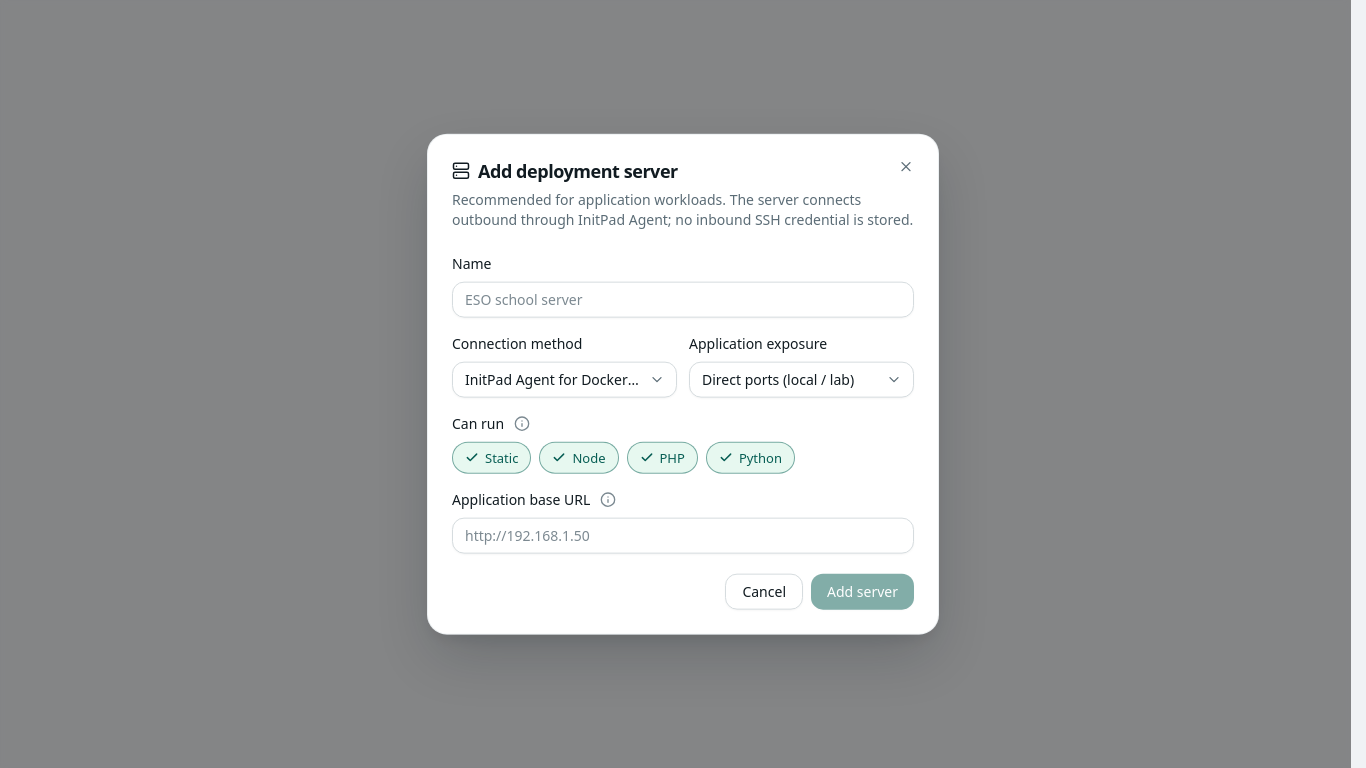
Test: TargetFormDialog SSH host trust › retrieves the public key before credentials and saves it only after confirmation
Select "SFTP shared web hosting" in the dropdown labelled "Connection method" at (564, 379), box x1=452 y1=361 x2=677 y2=397
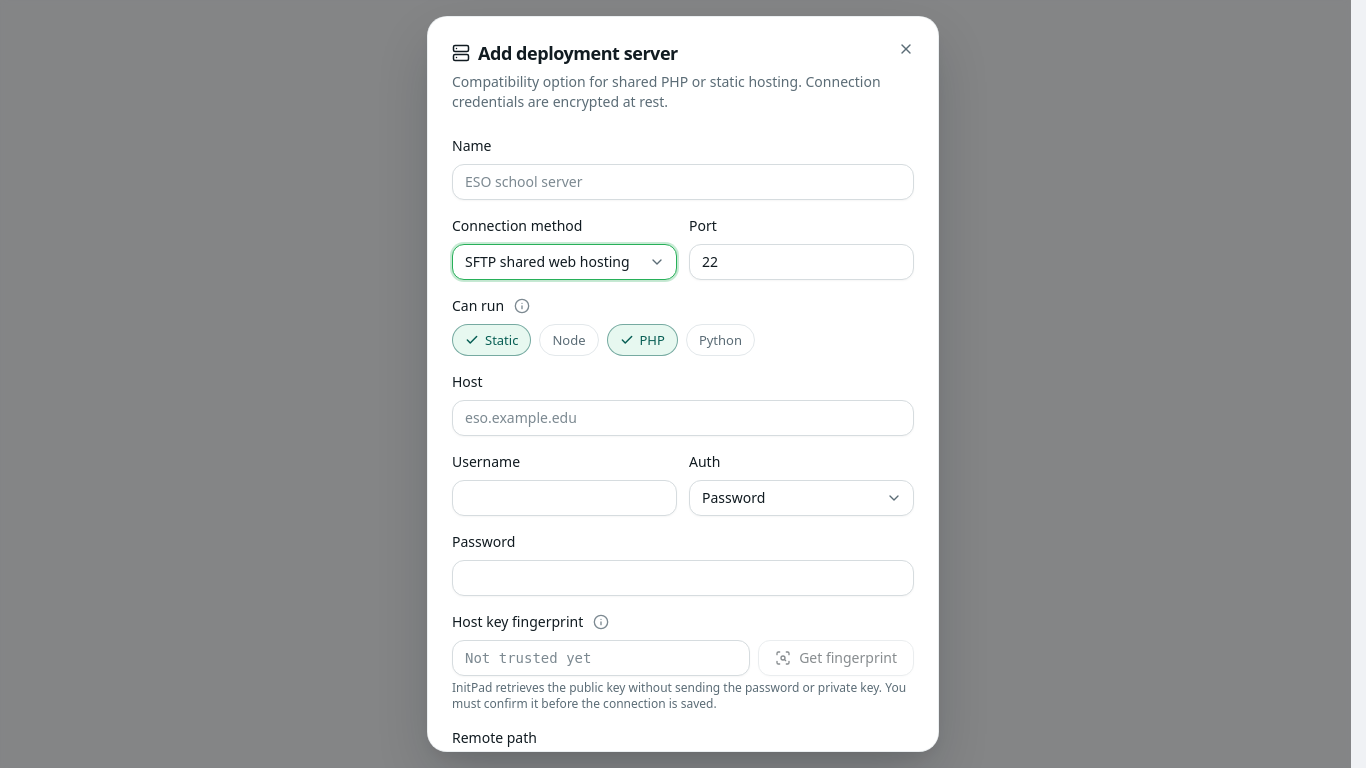
Type "sftp.example.test" into the field labelled "Host" at (683, 418), box x1=452 y1=400 x2=914 y2=436
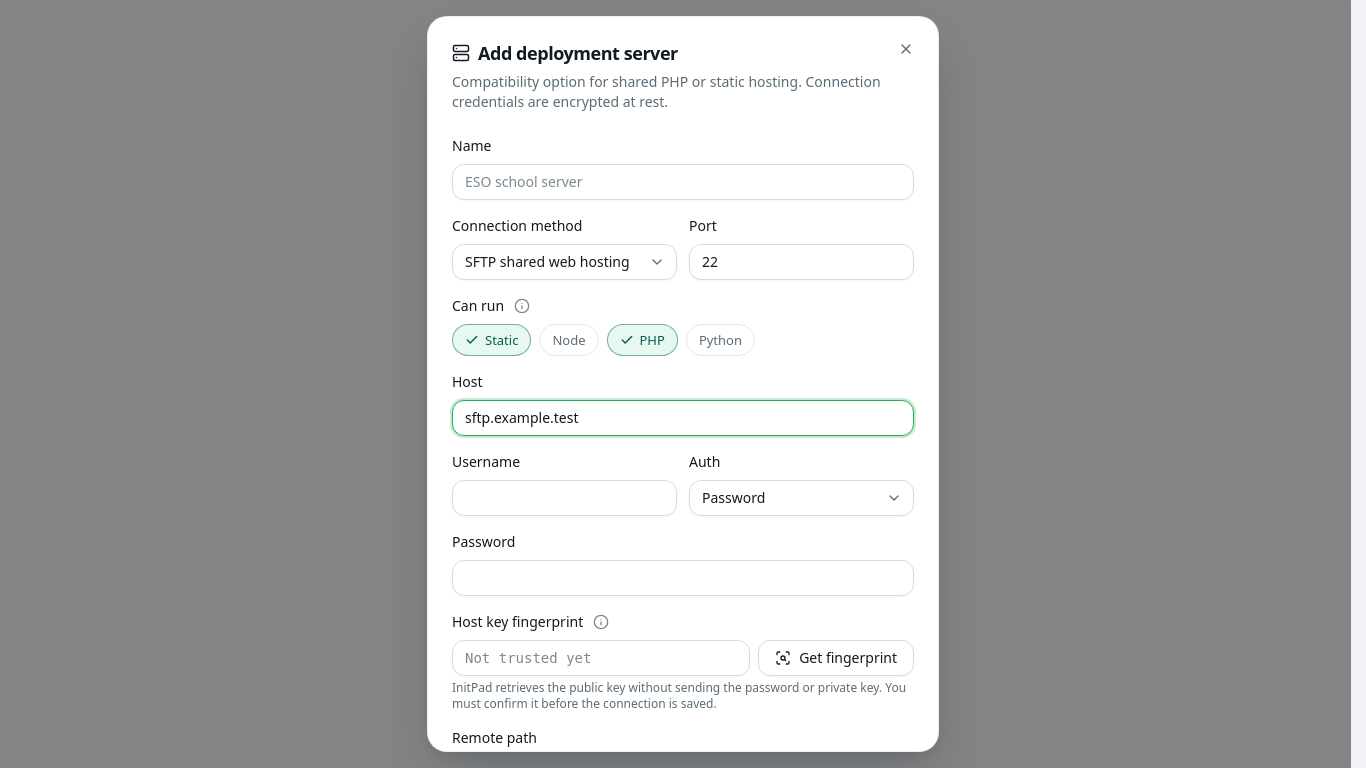
Click the button "Get fingerprint" at (836, 658), box x1=758 y1=640 x2=914 y2=676
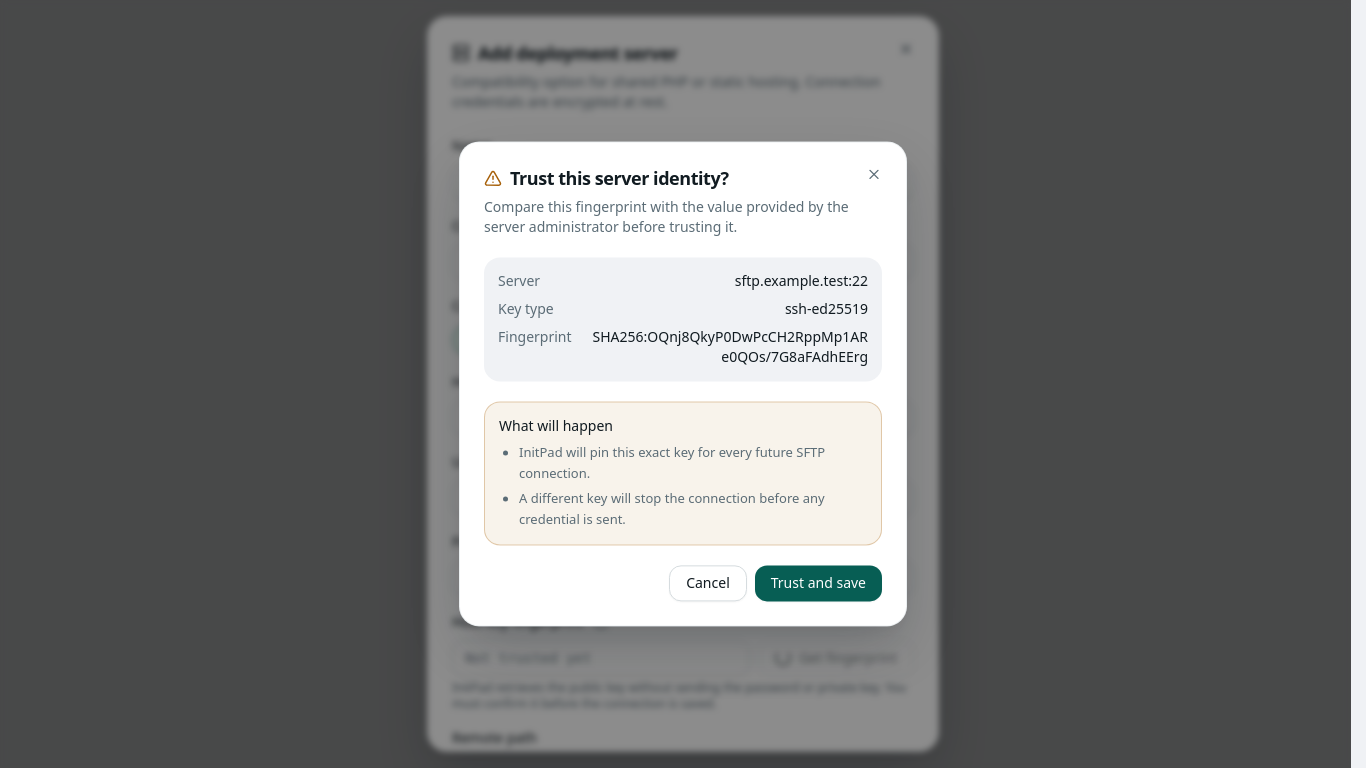
Expected: the field labelled "Host key fingerprint" is empty, x1=452 y1=640 x2=750 y2=676
Expected: the text "ssh-ed25519" is shown, x1=785 y1=299 x2=868 y2=318
Expected: the text "SHA256:OQnj8QkyP0DwPcCH2RppMp1ARe0QOs/7G8aFAdhEErg" is shown, x1=588 y1=327 x2=868 y2=367
Click the button "Trust and save" at (818, 584), box x1=755 y1=566 x2=882 y2=602
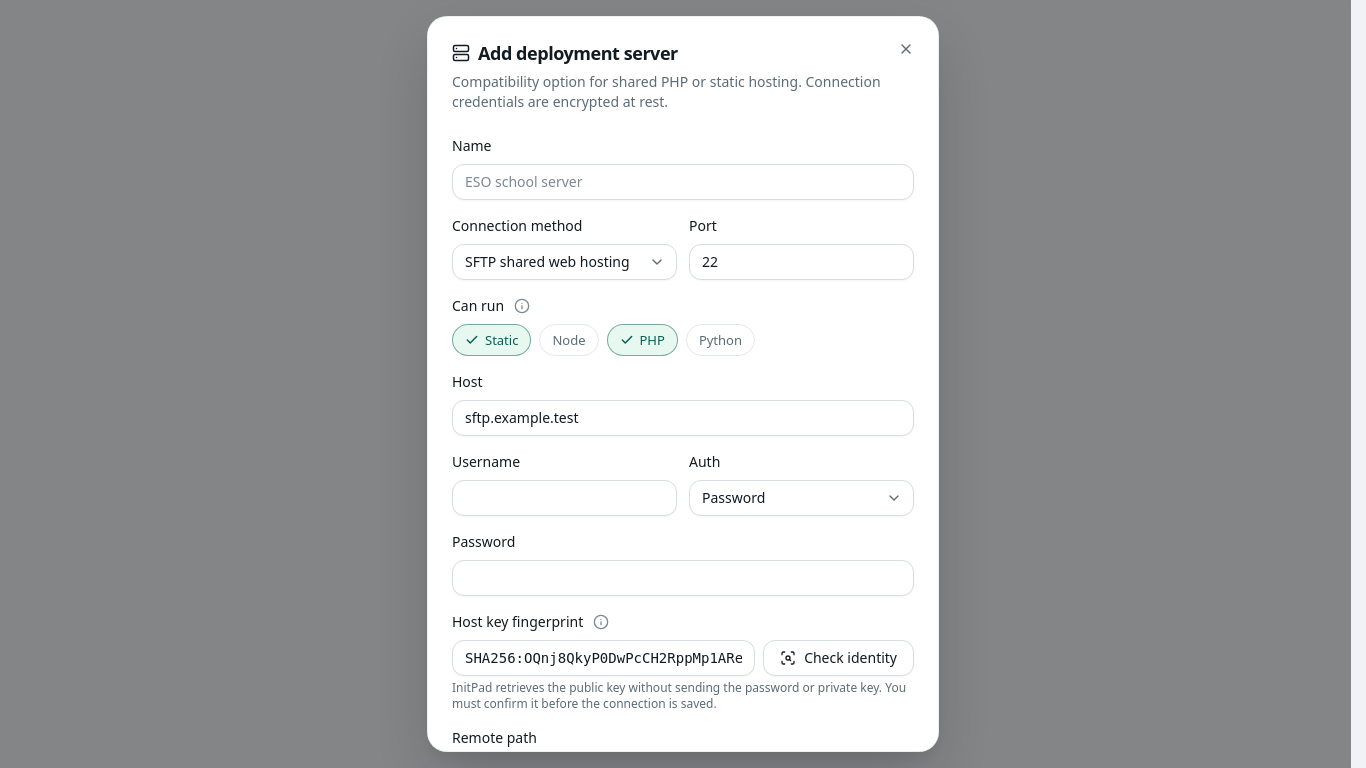
Expected: the field labelled "Host key fingerprint" holds "SHA256:OQnj8QkyP0DwPcCH2RppMp1ARe0QOs/7G8aFAdhEErg", x1=452 y1=640 x2=755 y2=676
